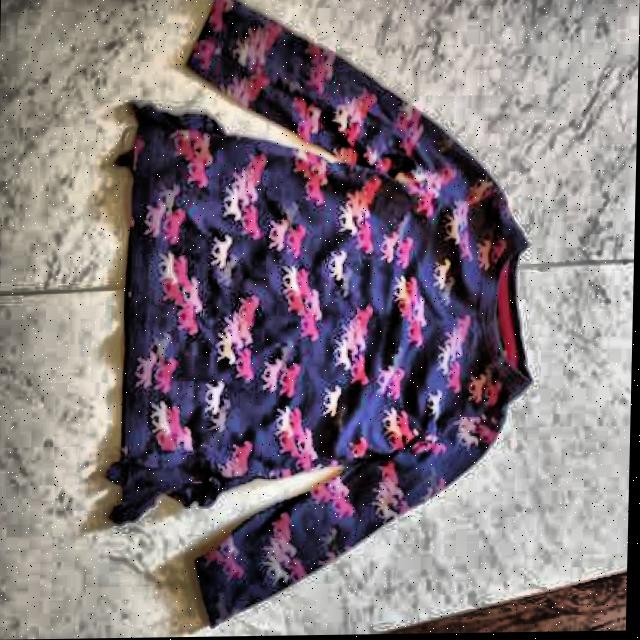clothes: (97, 0, 546, 638)
